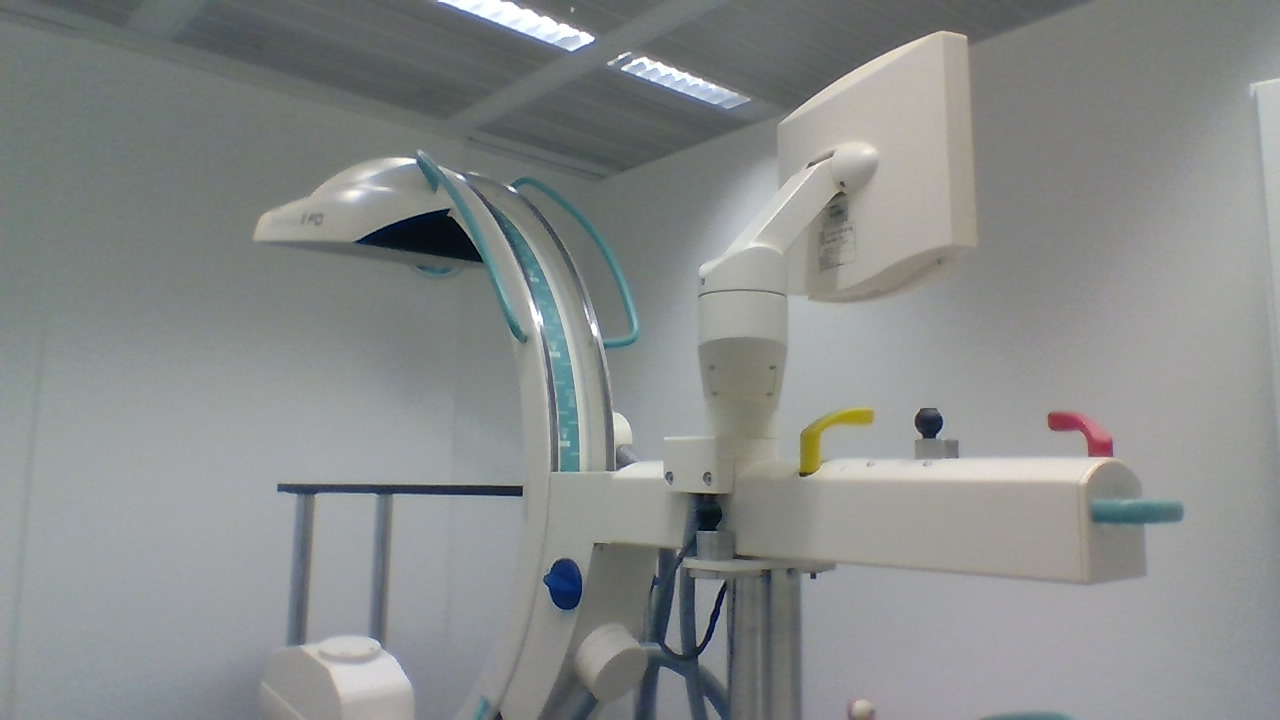carmDOWN: (259, 631, 417, 720)
carmLOCK: (540, 555, 585, 611)
carmSCREEN: (772, 27, 980, 305)
carmUP: (249, 159, 507, 272)
